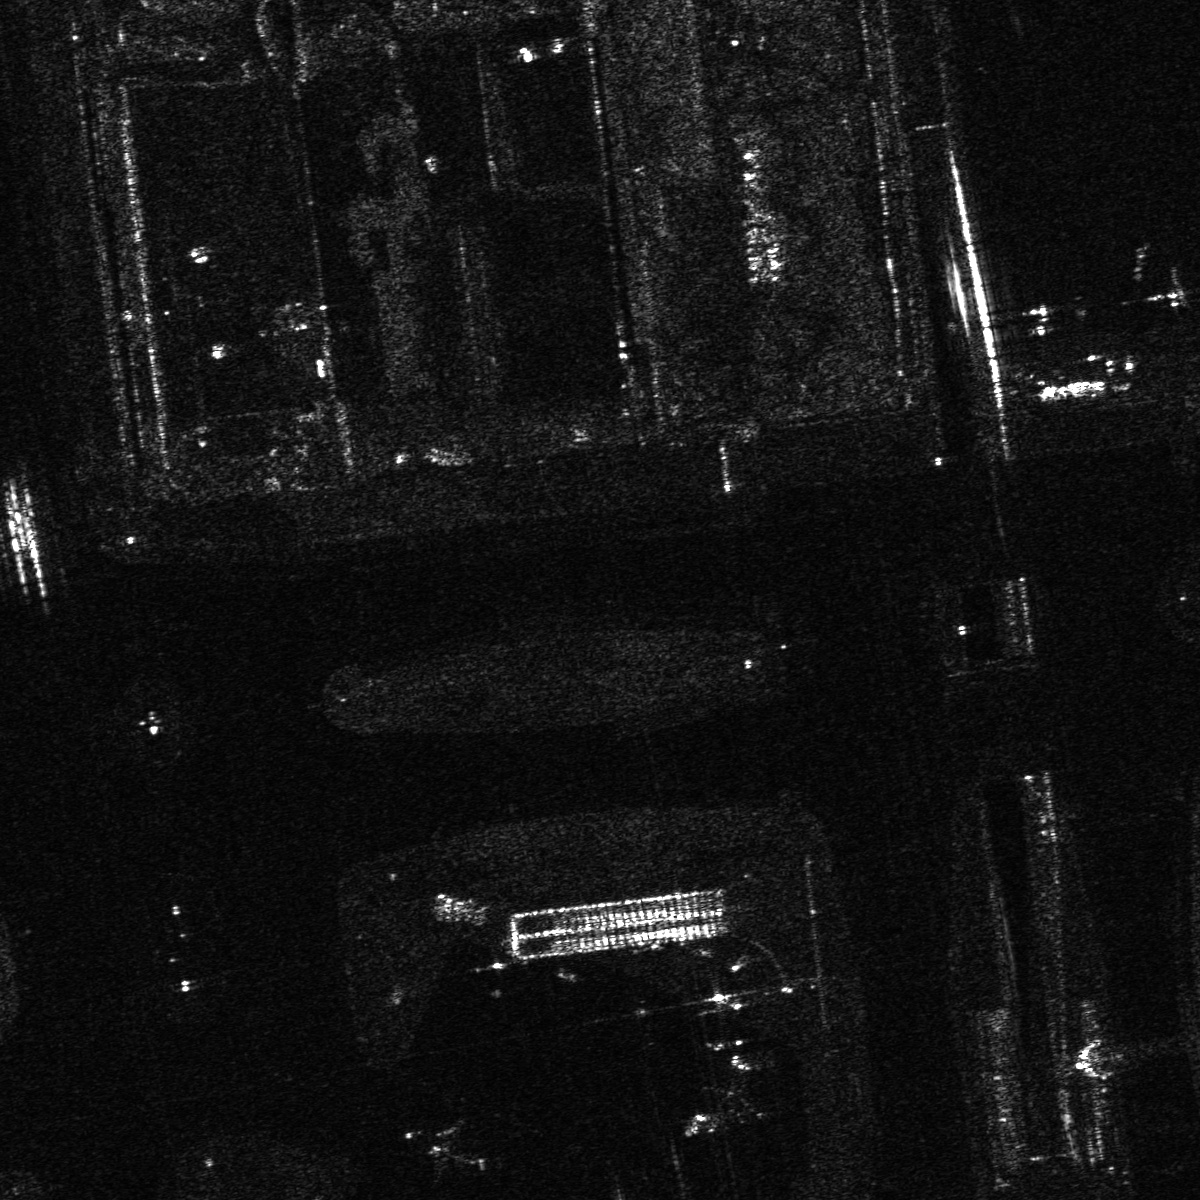Boeing787: (673, 1064, 769, 1142)
other: (398, 1115, 491, 1187)
